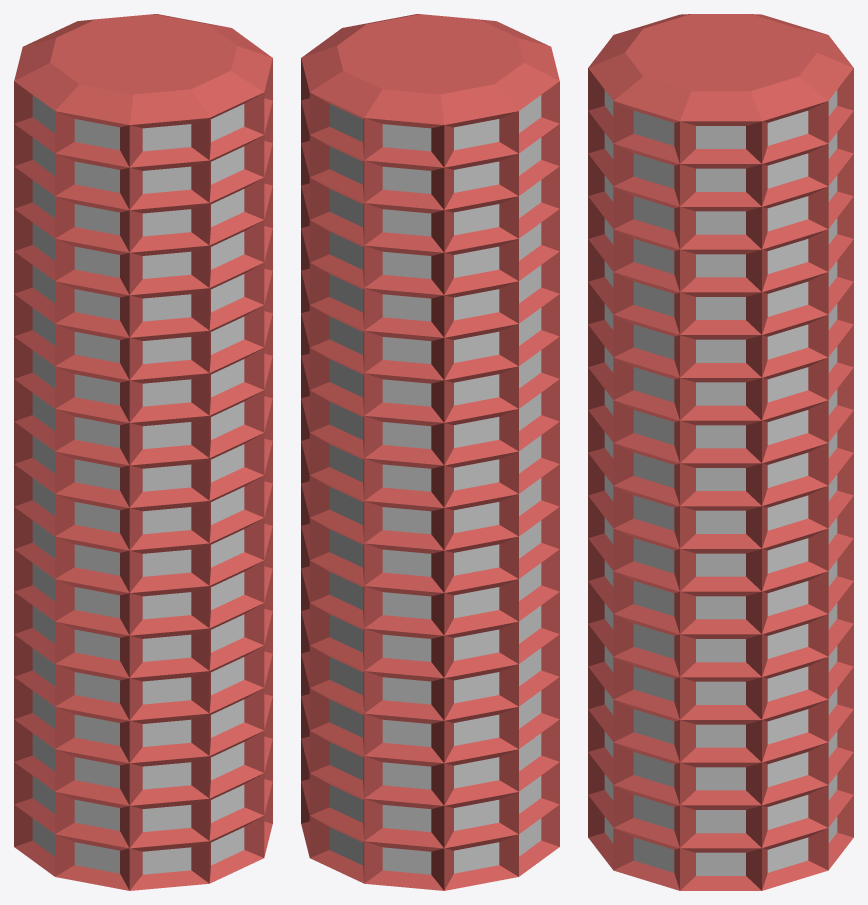
The model's file is predio_3[1].fbx.
3 views of the same model, side by side, from view 1: azimuth 30°, elevation 25°; view 2: azimuth 150°, elevation 25°; view 3: azimuth 270°, elevation 25° (orthographic).
Visible parts, largest first — view 1: PredioLow, PredioLow.001; view 2: PredioLow, PredioLow.001; view 3: PredioLow, PredioLow.001.
Part boxes in pixels (x1,y1,x2,y2): PredioLow: (14, 14, 272, 890); PredioLow.001: (32, 95, 244, 874); PredioLow: (301, 14, 559, 890); PredioLow.001: (329, 95, 541, 874); PredioLow: (588, 14, 853, 890); PredioLow.001: (604, 90, 837, 875).
Size of the model in its own units: 571 by 1955 by 600.
